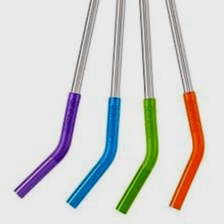drinking_straw: (10, 0, 104, 202), (63, 0, 130, 212), (111, 0, 161, 219), (160, 0, 210, 213)
